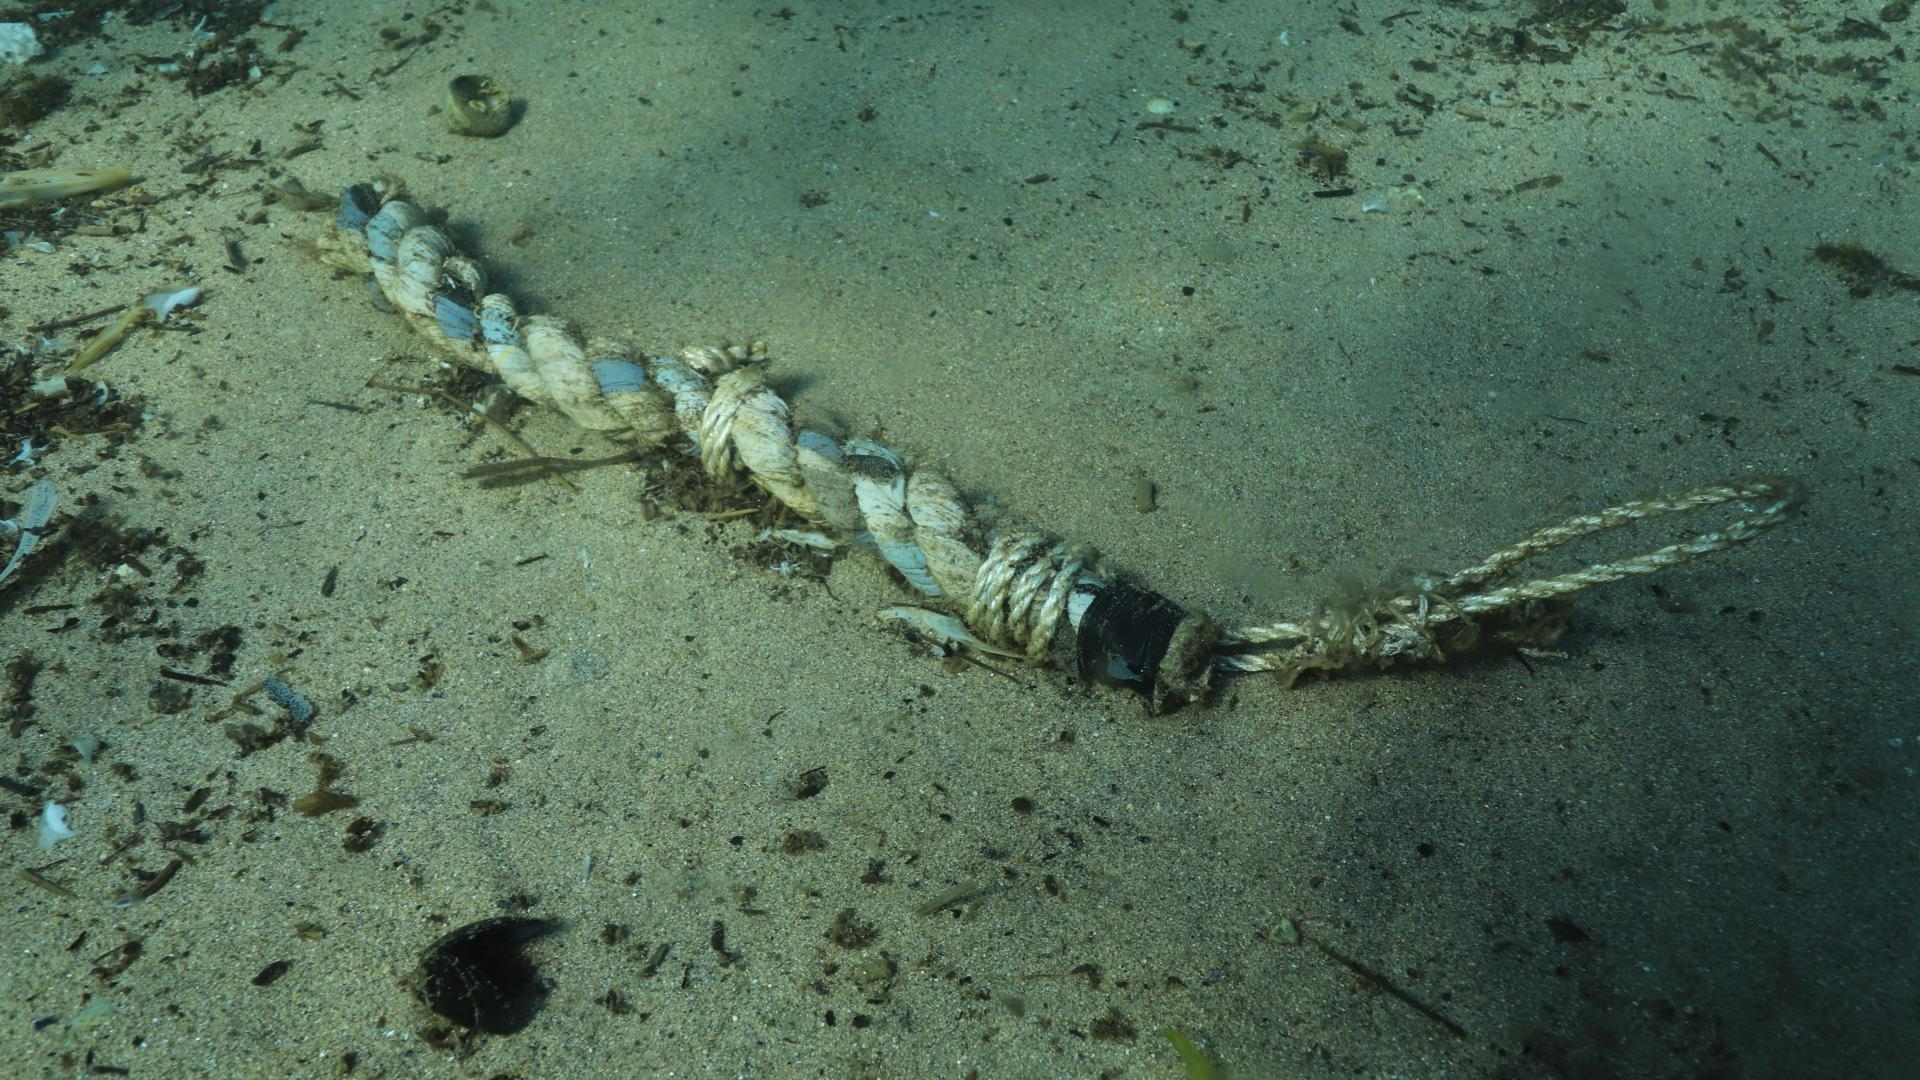bundle of ropes: (360, 194, 1226, 705), (1234, 475, 1811, 676)
